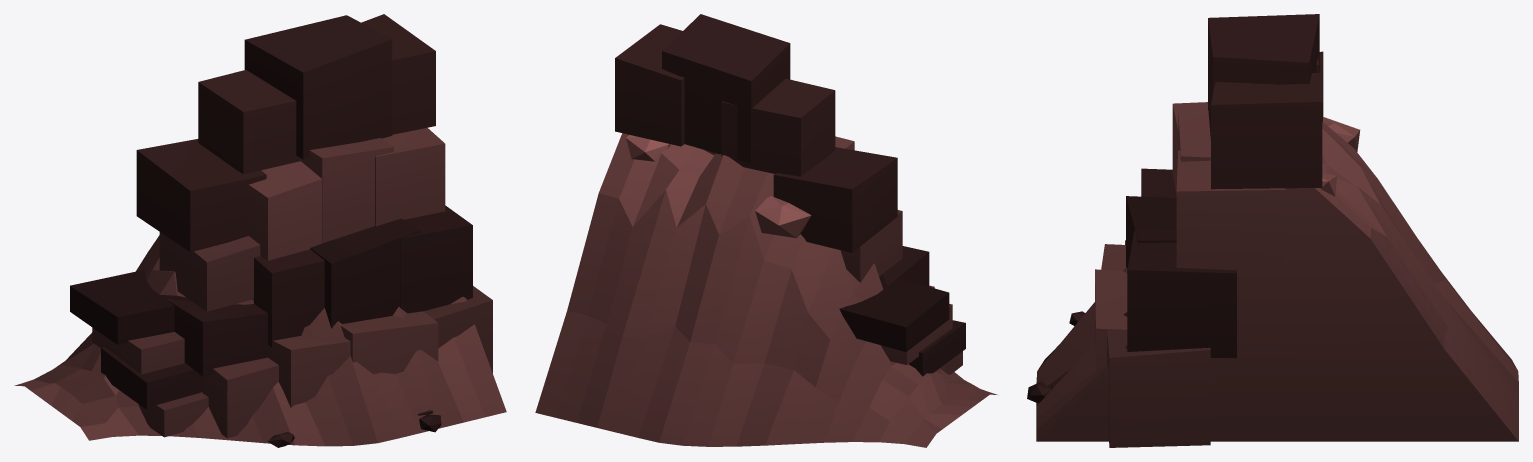
File: cliff-fulgora-entrance.glb
The picture shows the model from 3 angles, left to right: view 1: azimuth 30°, elevation 25°; view 2: azimuth 150°, elevation 25°; view 3: azimuth 270°, elevation 25°; orthographic projection. The views are drawn at different scales.
Parts seen in each view (by area): view 1: cliff-fulgora-entrance; view 2: cliff-fulgora-entrance; view 3: cliff-fulgora-entrance.
Part boxes in pixels (box(x1,y1,x2,y2)): cliff-fulgora-entrance: box(14, 14, 506, 447); cliff-fulgora-entrance: box(535, 14, 998, 447); cliff-fulgora-entrance: box(1027, 14, 1518, 447).
Size of the model in its own units: 3.16 by 2.71 by 3.31.
